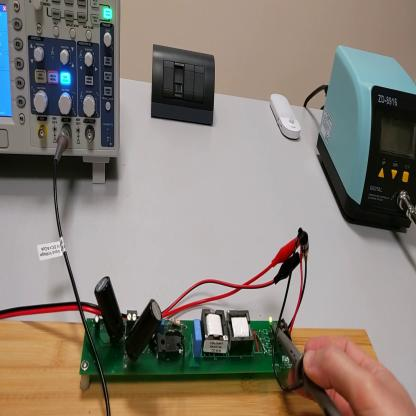hand: (299, 335, 414, 408)
high voltage board: (80, 227, 312, 375)
oscilloscope: (2, 3, 121, 184)
oscilloscope probe tip: (272, 321, 343, 414)
welder station: (319, 41, 416, 232)
working area: (2, 321, 374, 416)
